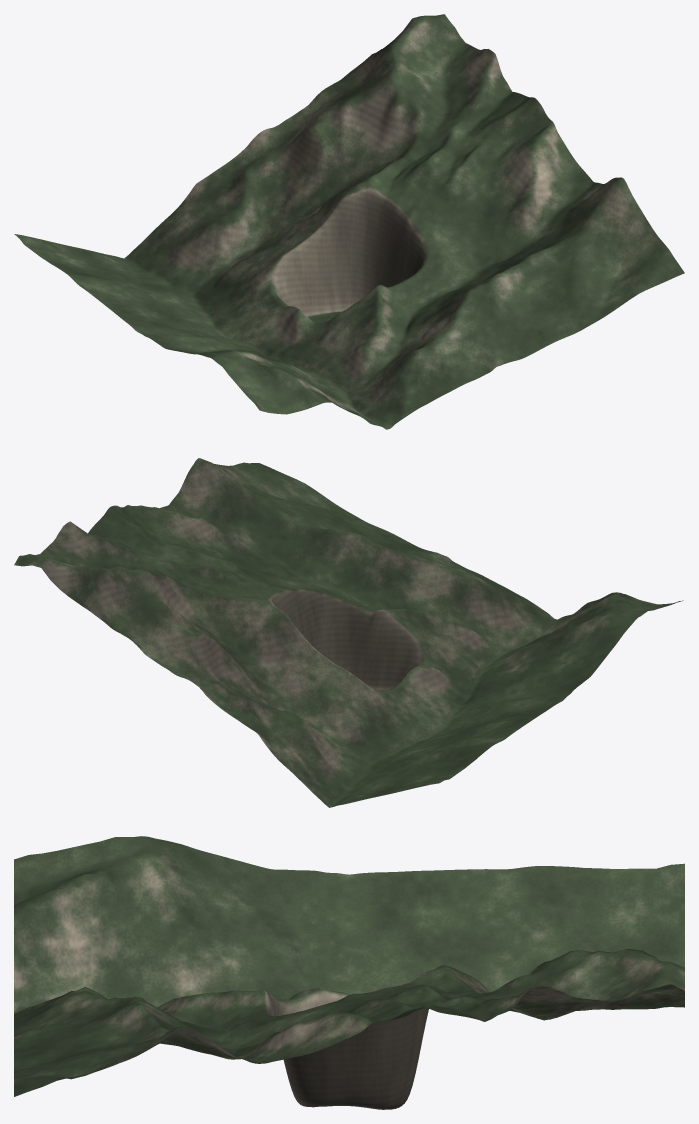
The model's file is GorgeRelief.fbx.
3 views of the same model, one above another, from view 1: azimuth 30°, elevation 25°; view 2: azimuth 150°, elevation 25°; view 3: azimuth 270°, elevation 25° (orthographic). The views are drawn at different scales.
Parts seen in each view (by area): view 1: GorgeRelief; view 2: GorgeRelief; view 3: GorgeRelief.
Boxes of the visible parts, x1,y1,x2,y2 form: GorgeRelief: (14, 14, 684, 429); GorgeRelief: (14, 458, 683, 807); GorgeRelief: (14, 836, 684, 1109).
Size of the model in its own units: 122000 by 50467 by 122000.
Materials: 1 (1 with a texture image).
